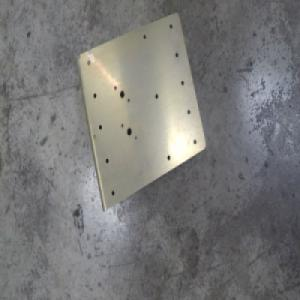MetalSheet: (73, 9, 206, 215)
